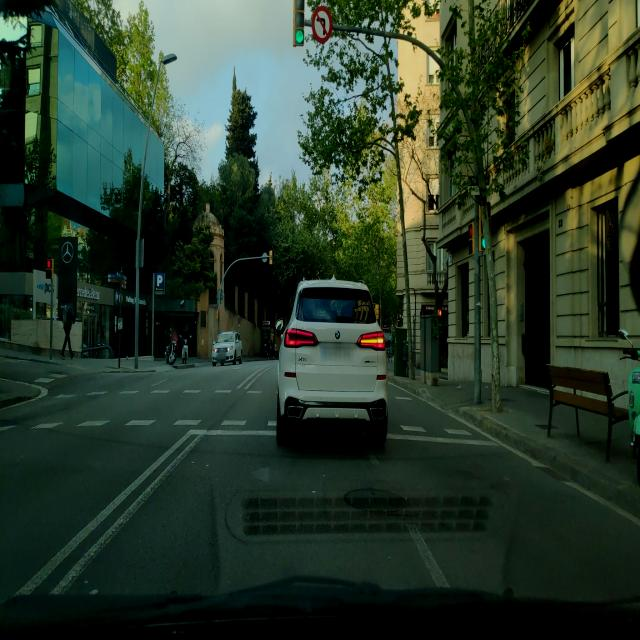bike: (164, 334, 179, 369), (183, 333, 190, 363)
car: (276, 277, 389, 447), (211, 330, 243, 367)
